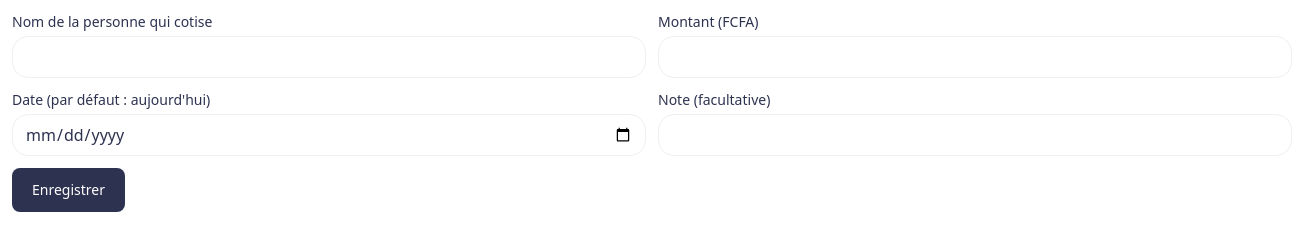
Test case: EntryForm › confirms the save and renews the key
The image size is (1304, 229).
Click the button "Enregistrer" at (68, 190), box [12, 168, 125, 212]
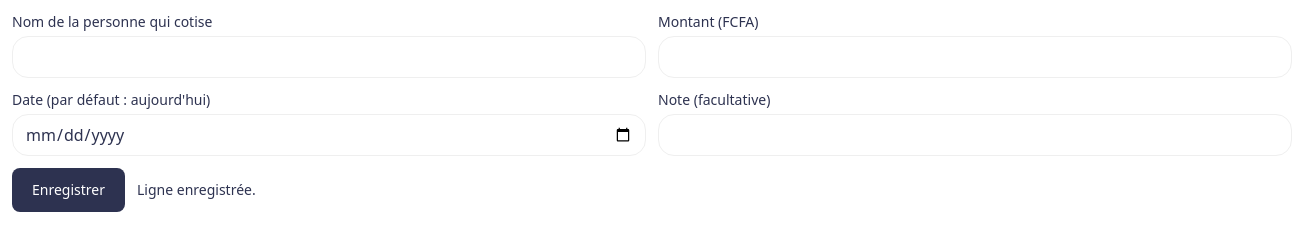
Expected: the field labelled "Nom de la personne qui cotise" is empty, [12, 36, 646, 78]
Result: the message reads "Ligne enregistrée." at [137, 180, 256, 199]
